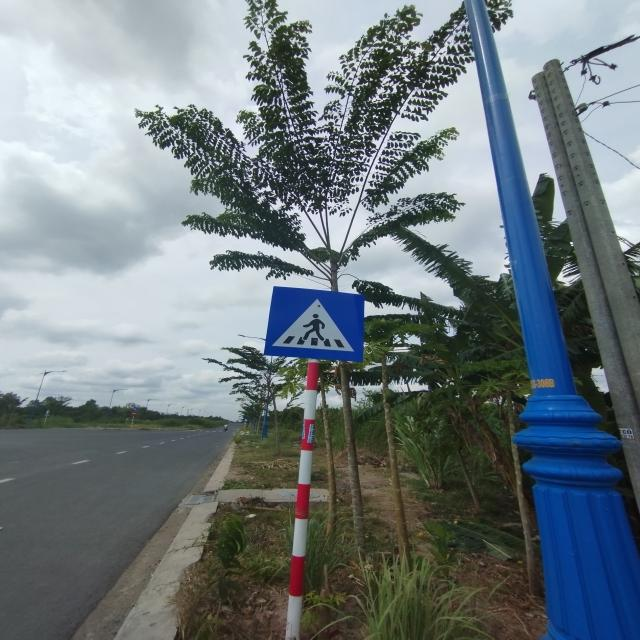Giao_Nhau_Duong_Uu_Tien: (264, 286, 364, 361)
